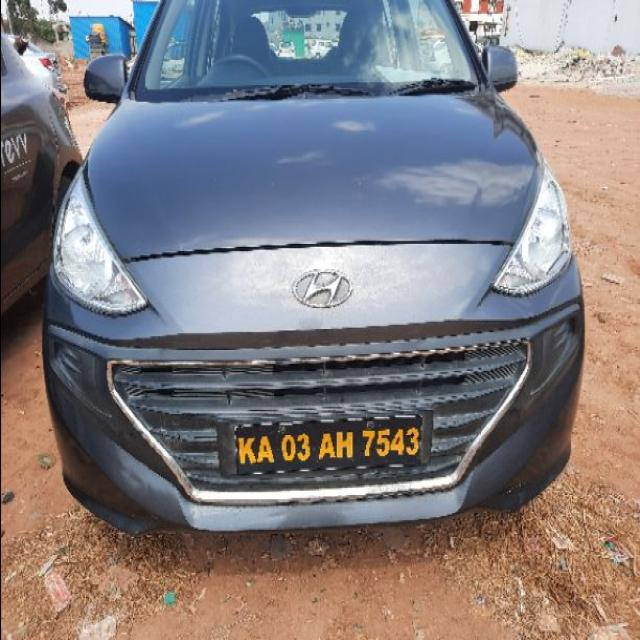license_plate: (217, 407, 432, 477)
